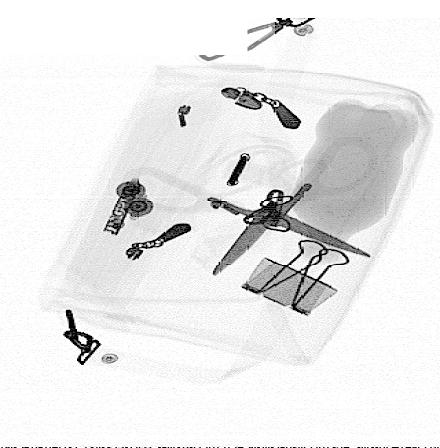Scissors: (117, 137, 381, 277)
